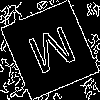M: (25, 25, 83, 84)
